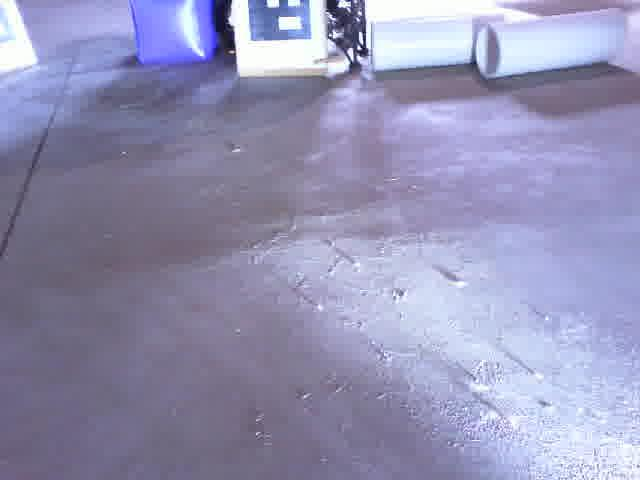coral: (476, 7, 629, 80), (369, 7, 508, 75)
